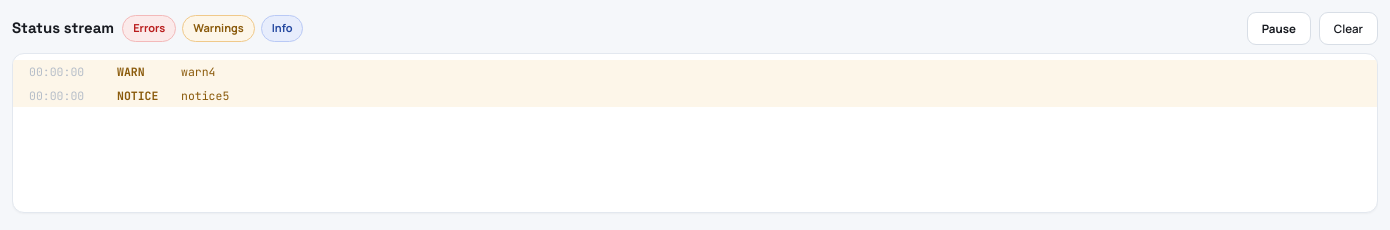
Test: StatusStream › WARNING(4) and NOTICE(5) both land in the warnings chip (PRD §8 boundary)
Step 1. Click the button "Warnings" → click(218, 29), box x1=182 y1=15 x2=255 y2=42
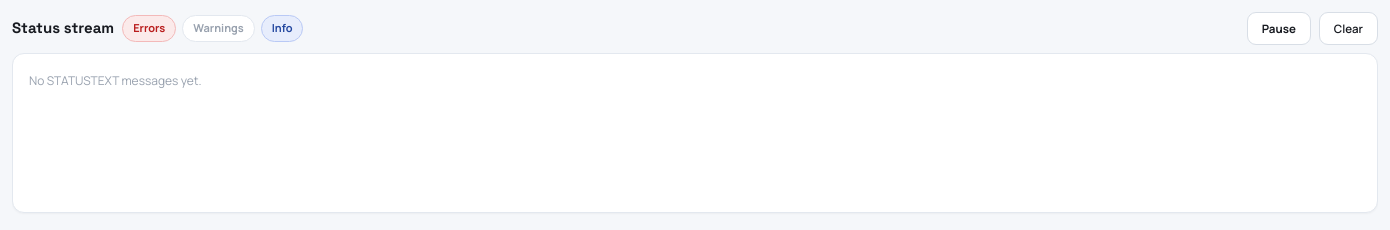
expect the text "warn4" is gone: met
expect the text "notice5" is gone: met
